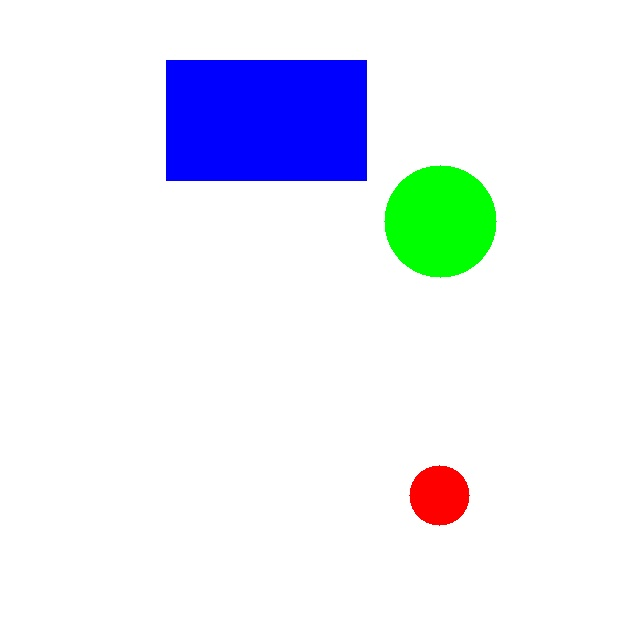cartao: (166, 60, 366, 180)
rosca_externa: (384, 165, 496, 277)
rosca_interna: (409, 465, 469, 525)
